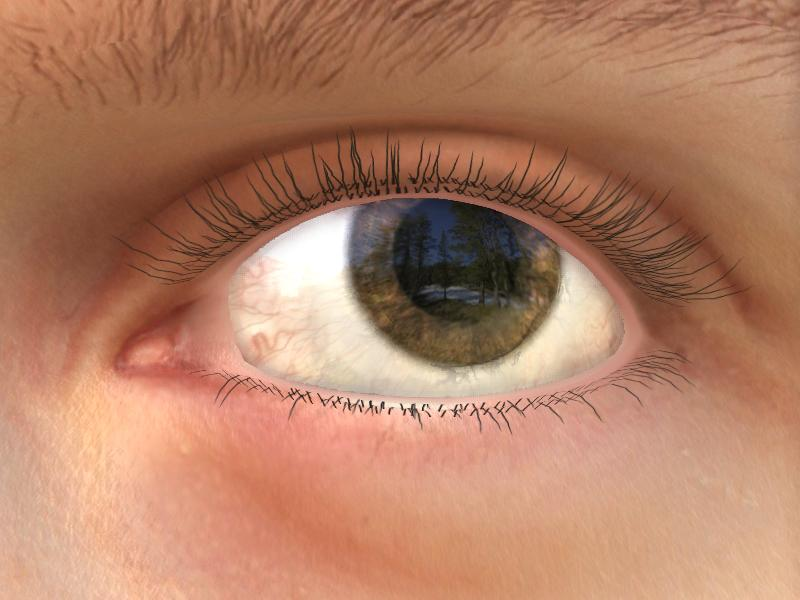eye: (345, 200, 564, 367)
